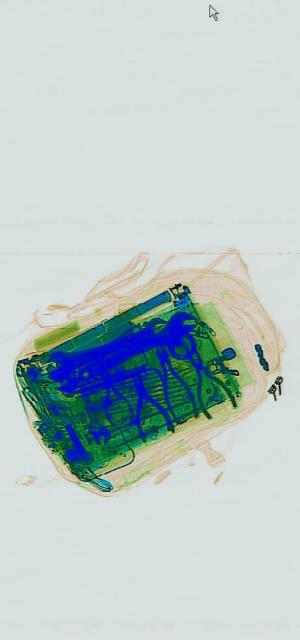Pliers: (175, 316, 234, 438), (147, 325, 197, 439), (121, 349, 171, 455), (92, 352, 133, 438)
Wrench: (76, 299, 198, 396), (45, 310, 166, 384), (74, 371, 111, 455)
